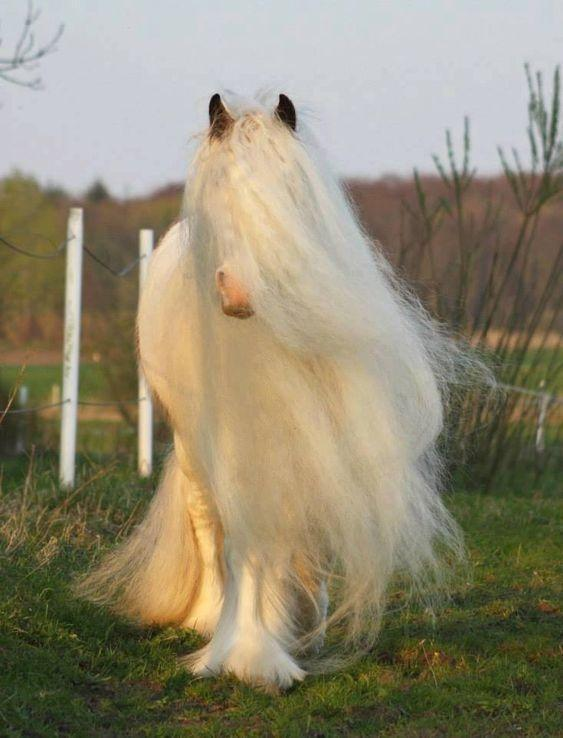horse: (69, 87, 503, 696)
